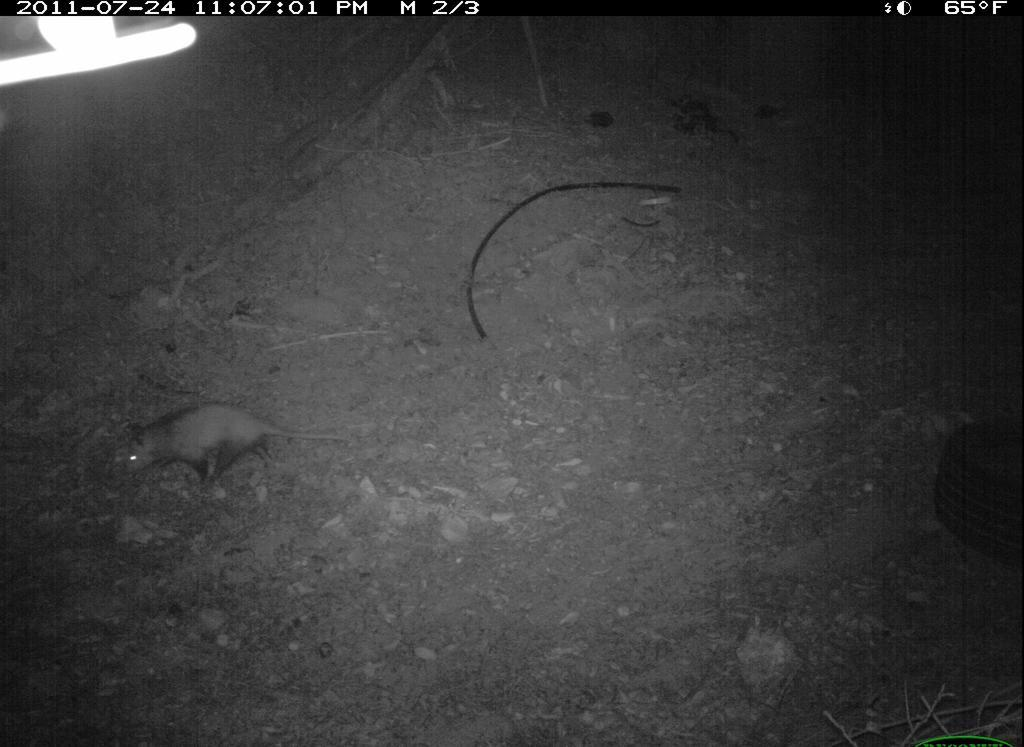opossum: (104, 397, 354, 506)
